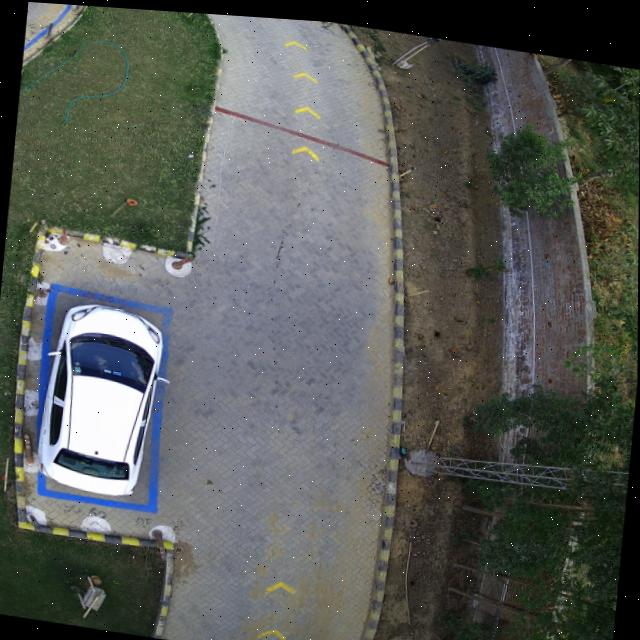car: (38, 299, 164, 496)
